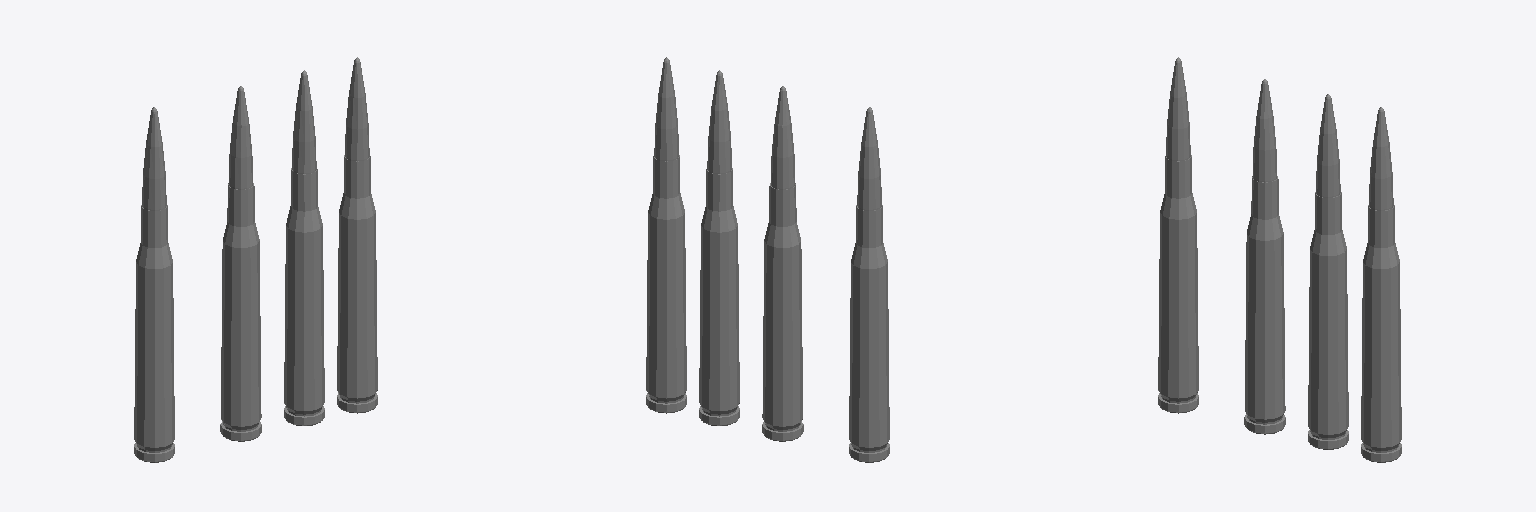
File: bullets.obj
The picture shows the model from 3 angles: view 1: azimuth 30°, elevation 25°; view 2: azimuth 150°, elevation 25°; view 3: azimuth 330°, elevation 25°; orthographic projection.
Parts seen in each view (by area): view 1: bullet_cilinder_003, bullet_cilinder_01, bullet_cilinder_002, bullet_cilinder_004, bullet_tip_004, bullet_tip_01, bullet_tip_003, bullet_tip_002; view 2: bullet_cilinder_003, bullet_cilinder_01, bullet_cilinder_002, bullet_cilinder_004, bullet_tip_004, bullet_tip_01, bullet_tip_003, bullet_tip_002; view 3: bullet_cilinder_003, bullet_cilinder_004, bullet_cilinder_002, bullet_cilinder_01, bullet_tip_01, bullet_tip_002, bullet_tip_004, bullet_tip_003.
Part boxes in pixels (x1,y1,x2,y2): bullet_cilinder_003: (220,183,261,441); bullet_cilinder_01: (337,155,377,413); bullet_cilinder_002: (284,168,324,425); bullet_cilinder_004: (134,205,174,462); bullet_tip_004: (142,107,166,210); bullet_tip_01: (345,57,369,161); bullet_tip_003: (228,86,252,189); bullet_tip_002: (292,70,316,173); bullet_cilinder_003: (762,183,803,441); bullet_cilinder_01: (646,155,686,413); bullet_cilinder_002: (699,168,739,425); bullet_cilinder_004: (849,205,889,462); bullet_tip_004: (857,107,881,210); bullet_tip_01: (654,57,678,161); bullet_tip_003: (771,86,795,189); bullet_tip_002: (707,70,731,173); bullet_cilinder_003: (1244,176,1285,434); bullet_cilinder_004: (1158,155,1198,413); bullet_cilinder_002: (1308,192,1348,449); bullet_cilinder_01: (1361,205,1401,462); bullet_tip_01: (1369,107,1393,210); bullet_tip_002: (1316,94,1340,197); bullet_tip_004: (1166,57,1190,160); bullet_tip_003: (1252,79,1276,182).
Bounding box in the file's own units: 0.2876 × 0.401 × 0.0434.